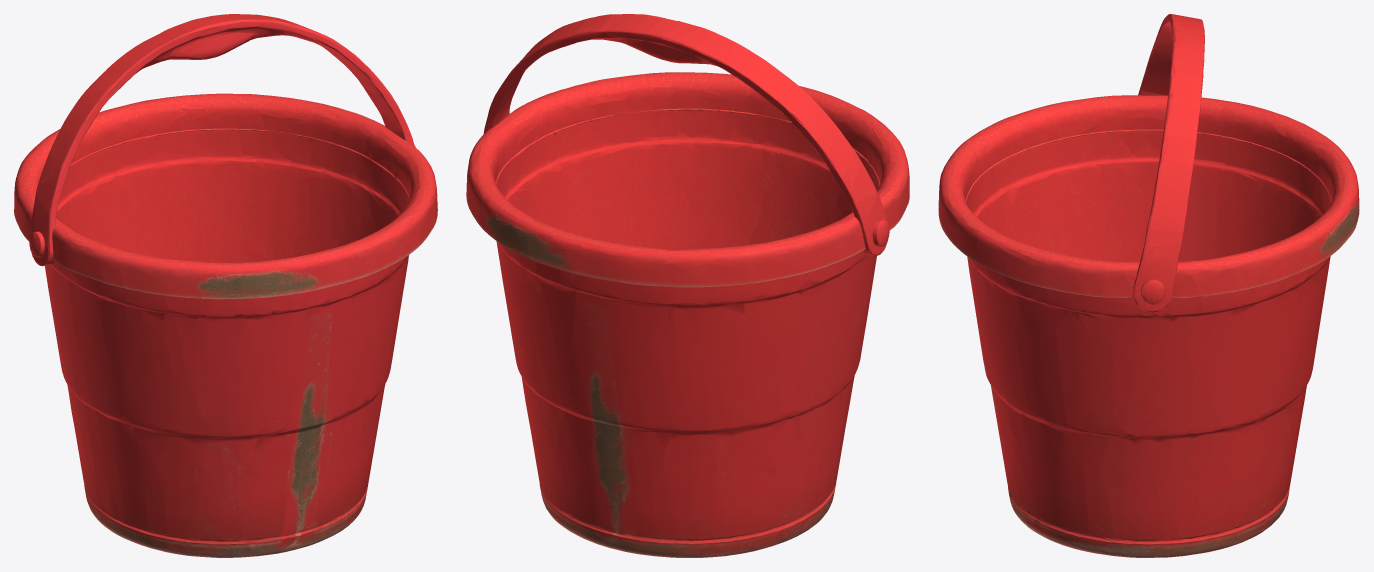
File: secchiello.glb
3 views of the same model, side by side, from view 1: azimuth 30°, elevation 25°; view 2: azimuth 150°, elevation 25°; view 3: azimuth 270°, elevation 25° (orthographic). The views are drawn at different scales.
Size of the model in its own units: 1.63 by 1.9 by 1.55.
1 material, 1 textured.
